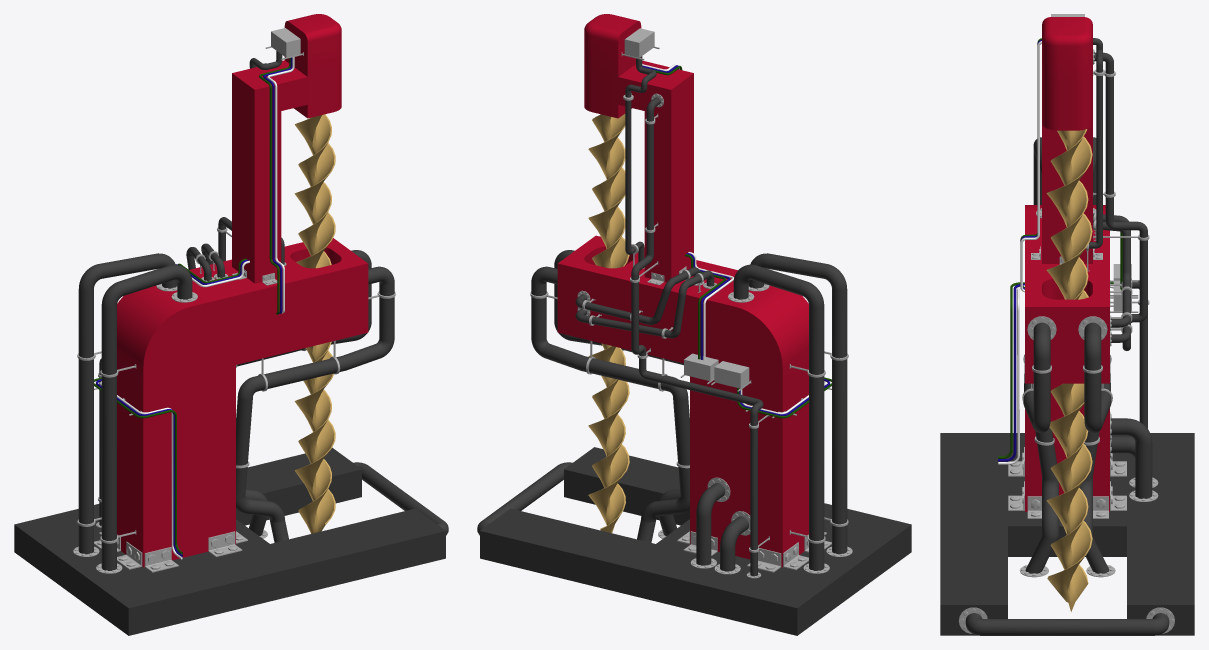
File: oremine.fbx
The picture shows the model from 3 angles, left to right: view 1: azimuth 30°, elevation 25°; view 2: azimuth 150°, elevation 25°; view 3: azimuth 270°, elevation 25°; orthographic projection. The views are drawn at different scales.
Parts seen in each view (by area): view 1: Circle.004; view 2: Circle.004; view 3: Circle.004.
Part boxes in pixels (x1,y1,x2,y2): Circle.004: (14,14,448,635); Circle.004: (477,14,911,635); Circle.004: (940,14,1194,635).
Size of the model in its own units: 255 by 381 by 150.
